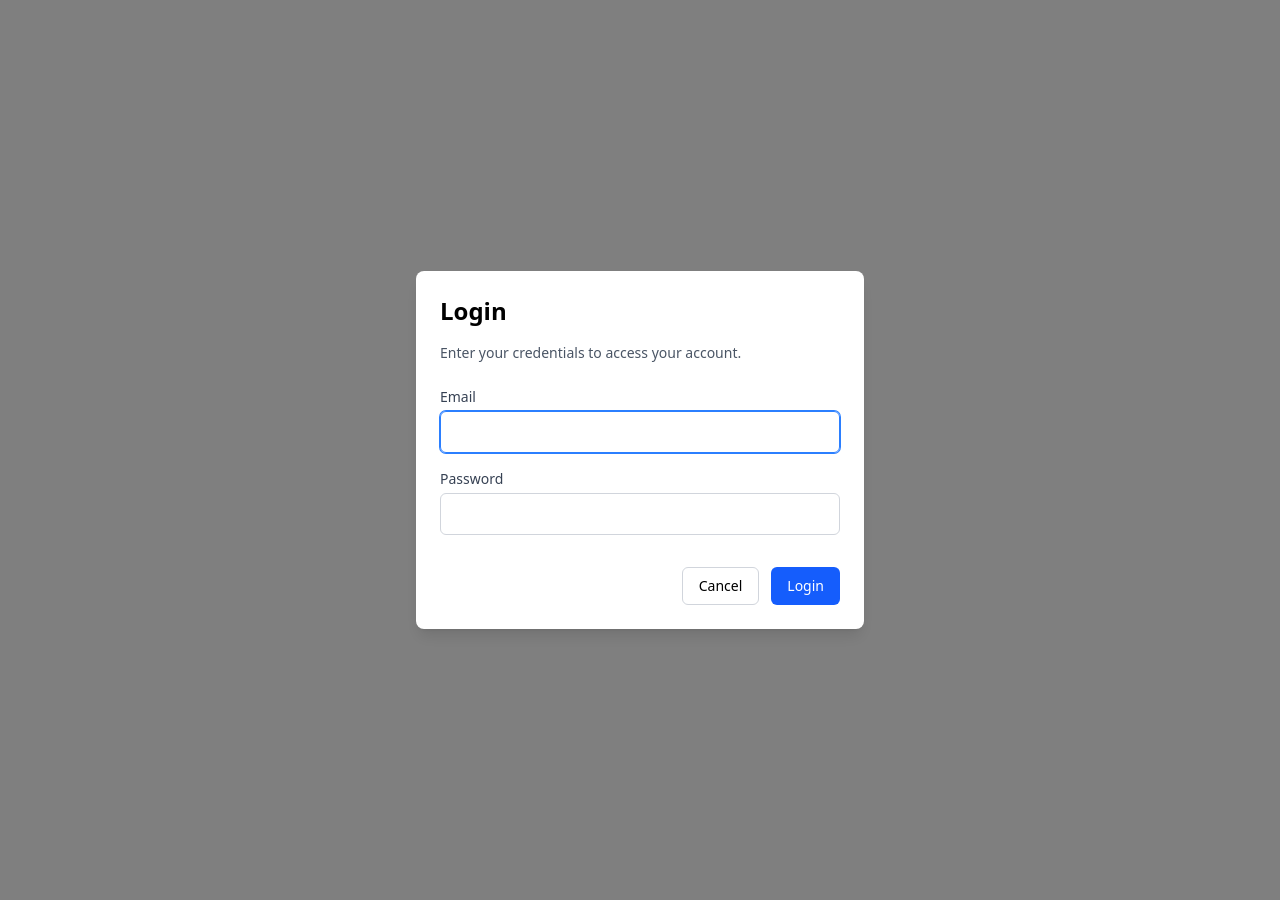
Test: LoginDialog › validates empty email
Click the button "Login" at (806, 586), box [771, 567, 840, 605]
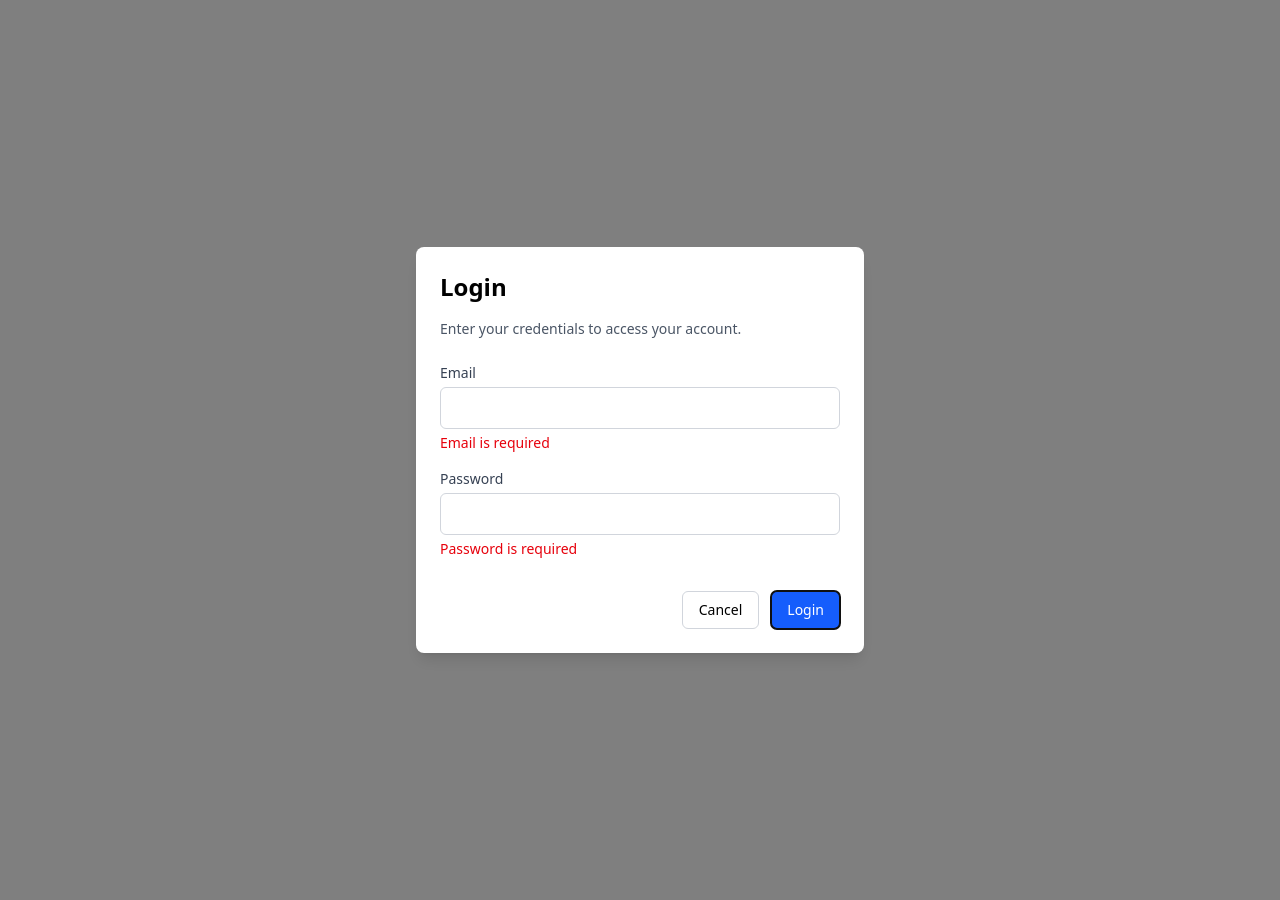
Expected: the text "Email is required" is shown, [440, 433, 550, 452]
